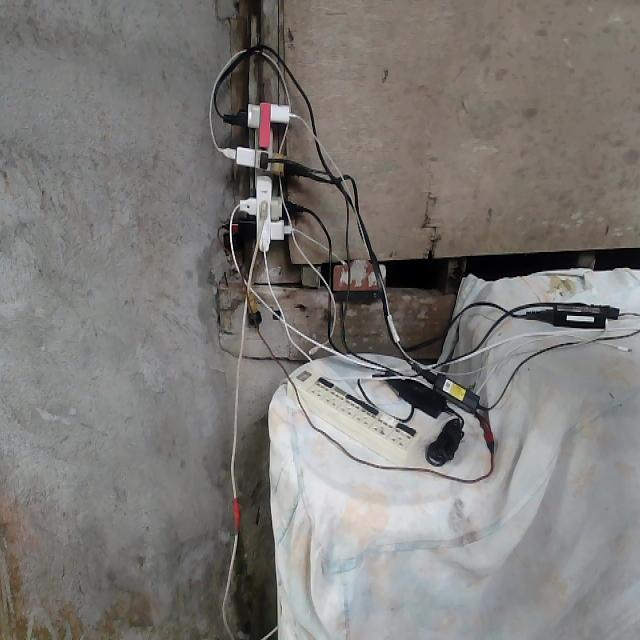-: (203, 92, 318, 277)
